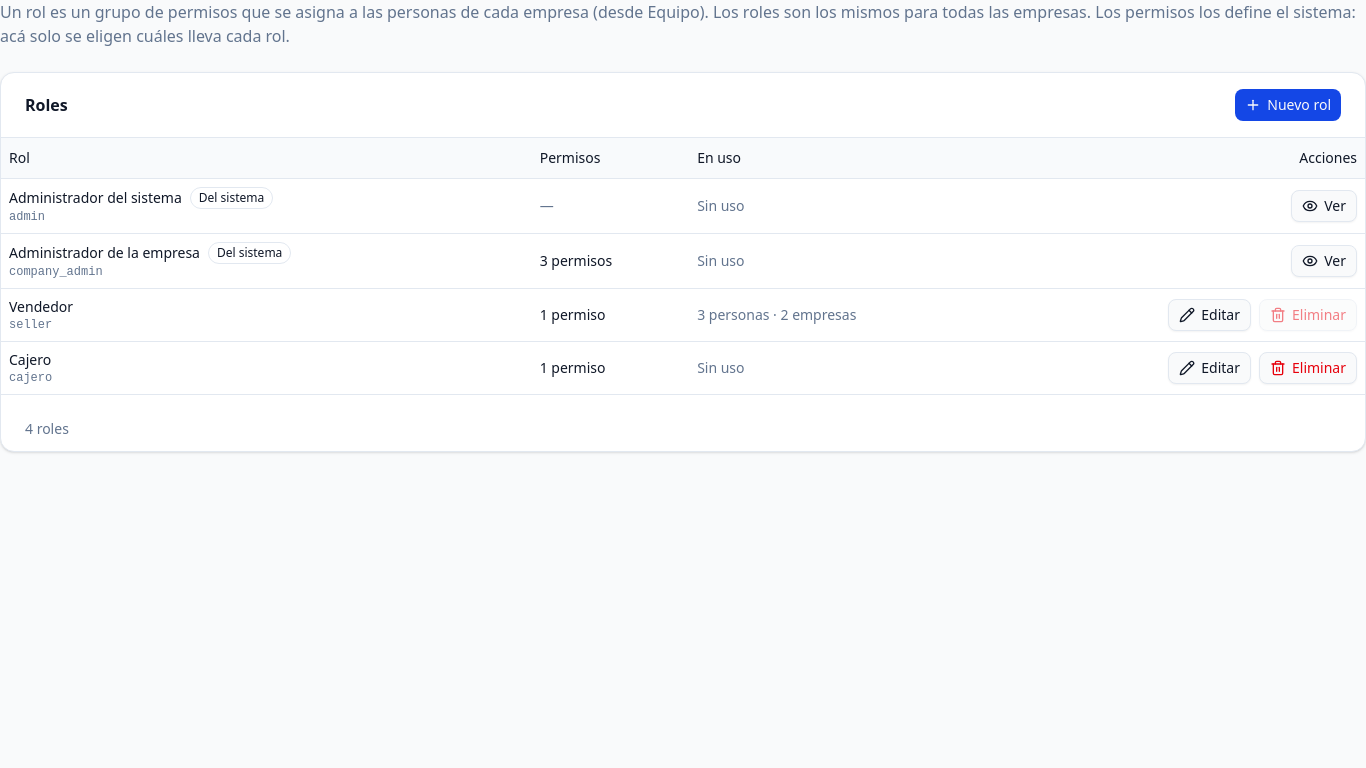
Test: Roles (administración del sistema) › borra un rol sin uso después de confirmar
Click the button with aria-label "Eliminar cajero" at x=1308, y=368, box [1259,352,1357,384]
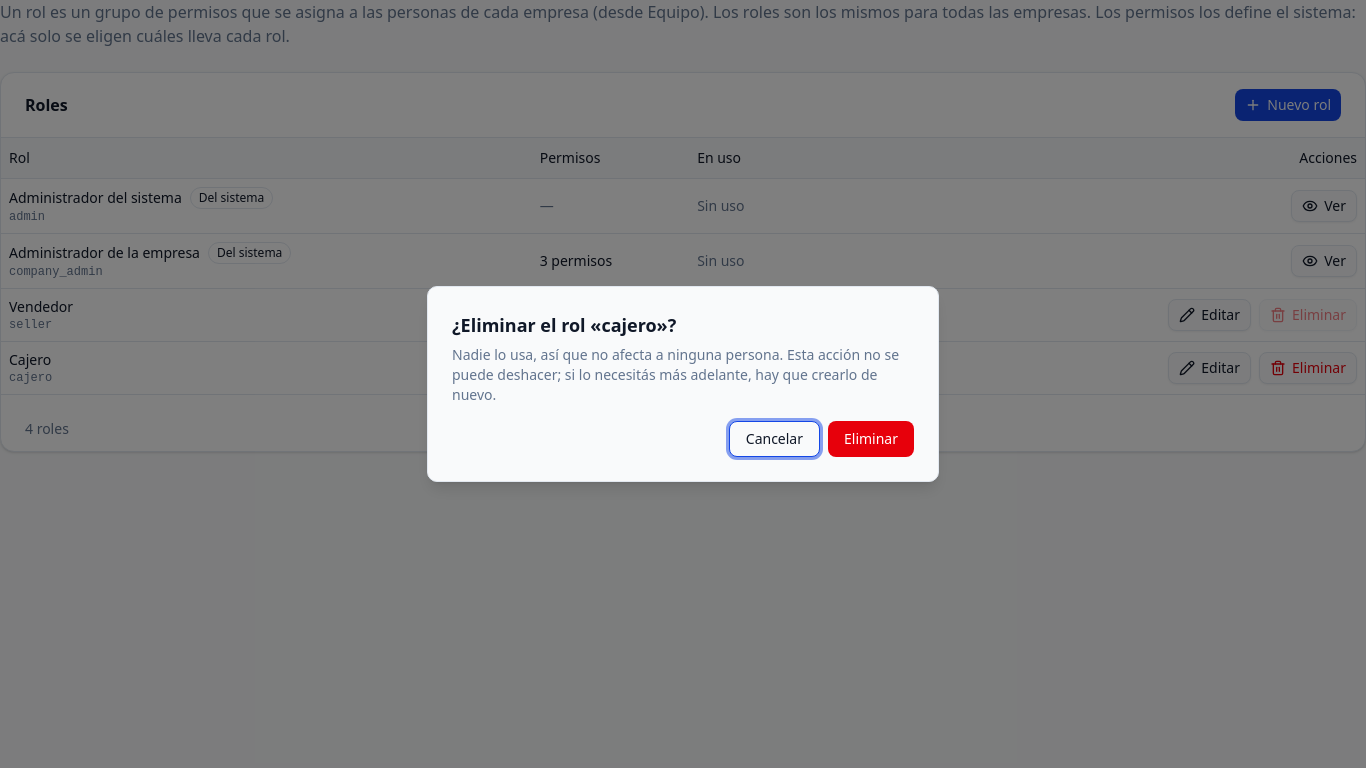
Click the button "Eliminar" at x=871, y=439, box [828,421,914,457]
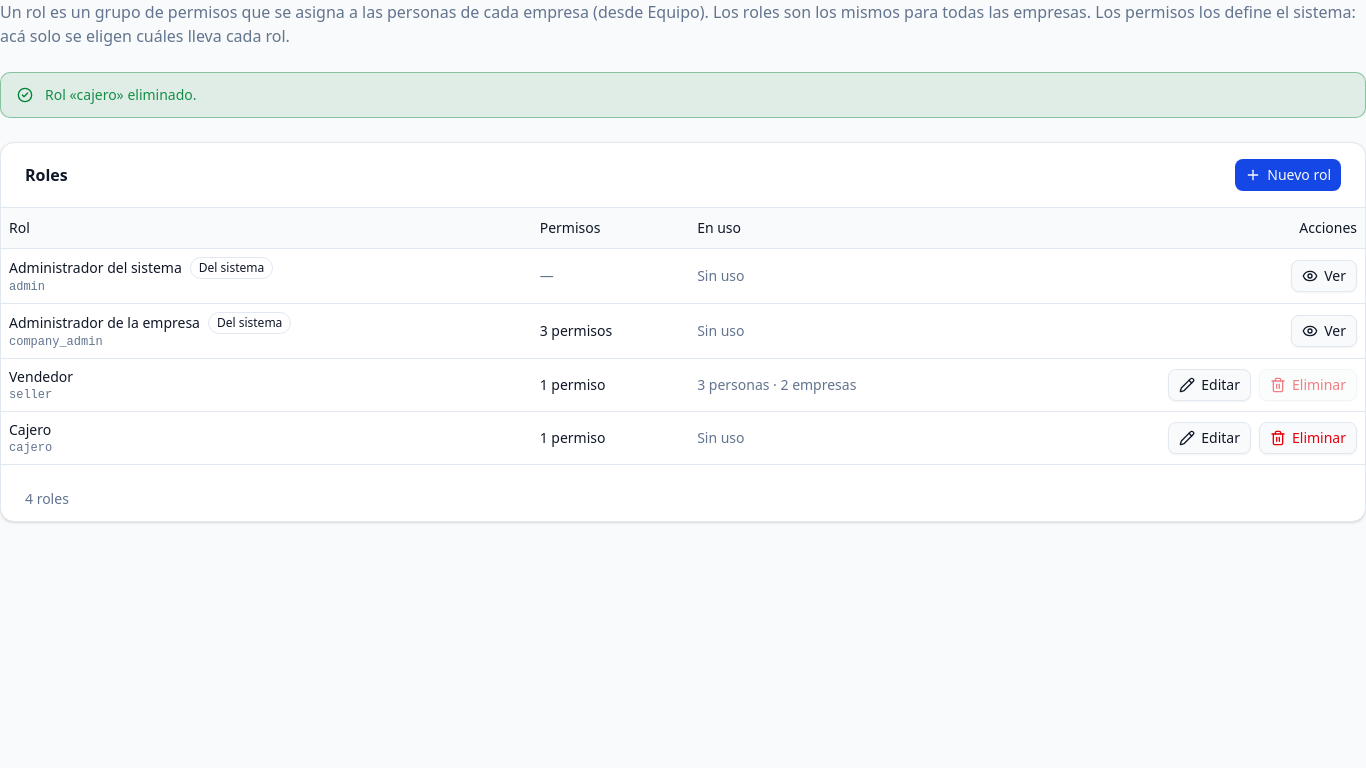
Expected: the text "Rol «cajero» eliminado." is shown, [45,85,196,104]
